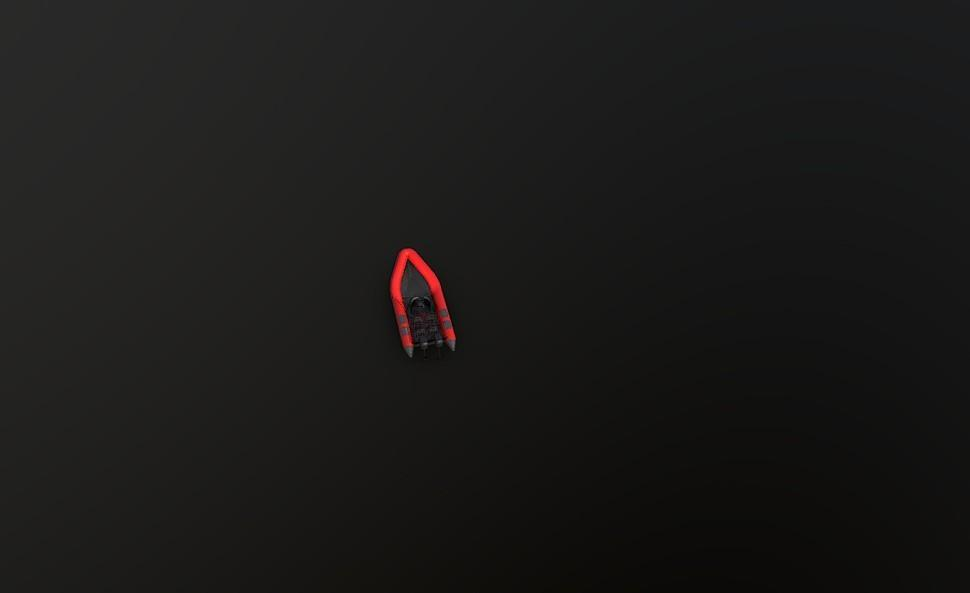Boat: (388, 246, 457, 361)
